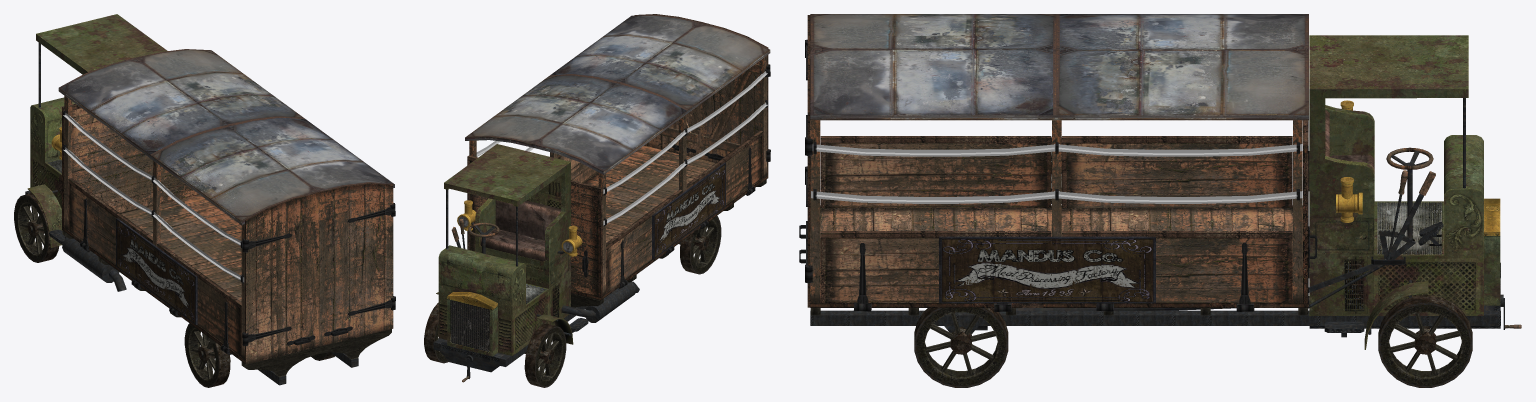
Rendered from truck.DAE.
3 views of the same model, side by side, from view 1: azimuth 30°, elevation 25°; view 2: azimuth 150°, elevation 25°; view 3: azimuth 270°, elevation 25° (orthographic). The views are drawn at different scales.
Parts seen in each view (by area): view 1: Box045, Box008, Box079, Object042, Box001, Object040, Box077, Box003; view 2: Box008, Box079, Box045, Object042, Box001, Box003, Box077, Object040; view 3: Box045, Box008, Box079, Box001, Box003, Object042, Box077, Object040.
Boxes of the visible parts, x1,y1,x2,y2 form: Box045: (62, 96, 393, 364); Box008: (58, 49, 394, 225); Box079: (27, 14, 167, 247); Object042: (14, 193, 391, 387); Box001: (116, 218, 197, 324); Object040: (63, 110, 395, 354); Box077: (63, 113, 244, 282); Box003: (25, 43, 358, 385); Box008: (465, 14, 770, 174); Box079: (436, 144, 582, 356); Box045: (451, 14, 768, 382); Object042: (424, 179, 766, 387); Box001: (652, 162, 725, 259); Box003: (433, 189, 680, 378); Box077: (476, 71, 767, 225); Object040: (582, 64, 770, 288); Box045: (807, 15, 1521, 328); Box008: (810, 14, 1308, 120); Box079: (1309, 35, 1500, 349); Box001: (939, 137, 1155, 303); Box003: (810, 98, 1504, 337); Object042: (810, 295, 1472, 387); Box077: (811, 144, 1302, 203); Object040: (799, 39, 1405, 311).
Bounding box in the file's own units: 3.36 × 4.58 × 10.06.
